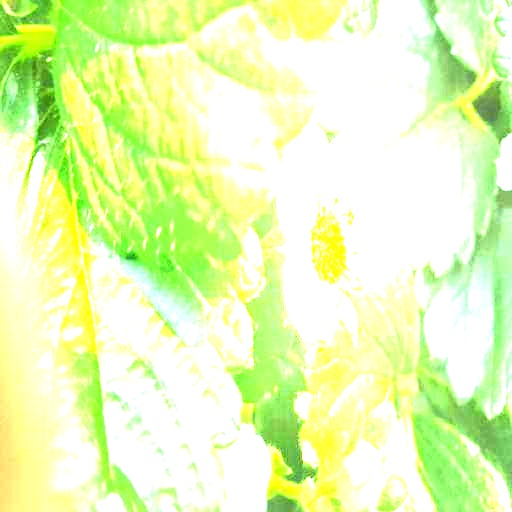Blossom Blight: (303, 189, 362, 294)
